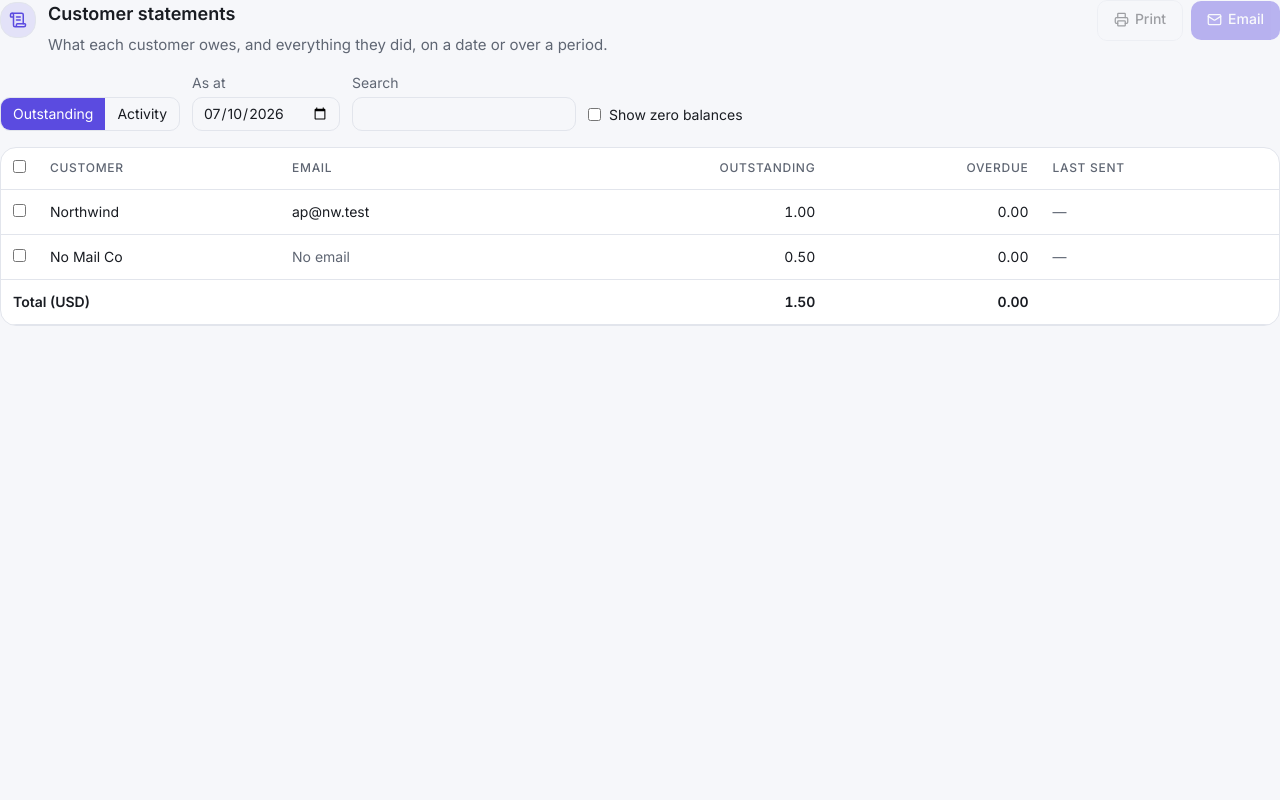
Test: Email statements from the list › sends the selected parties with the default template and reports who was skipped
Click the checkbox named "Select all": (20, 166) x1=13 y1=160 x2=26 y2=172
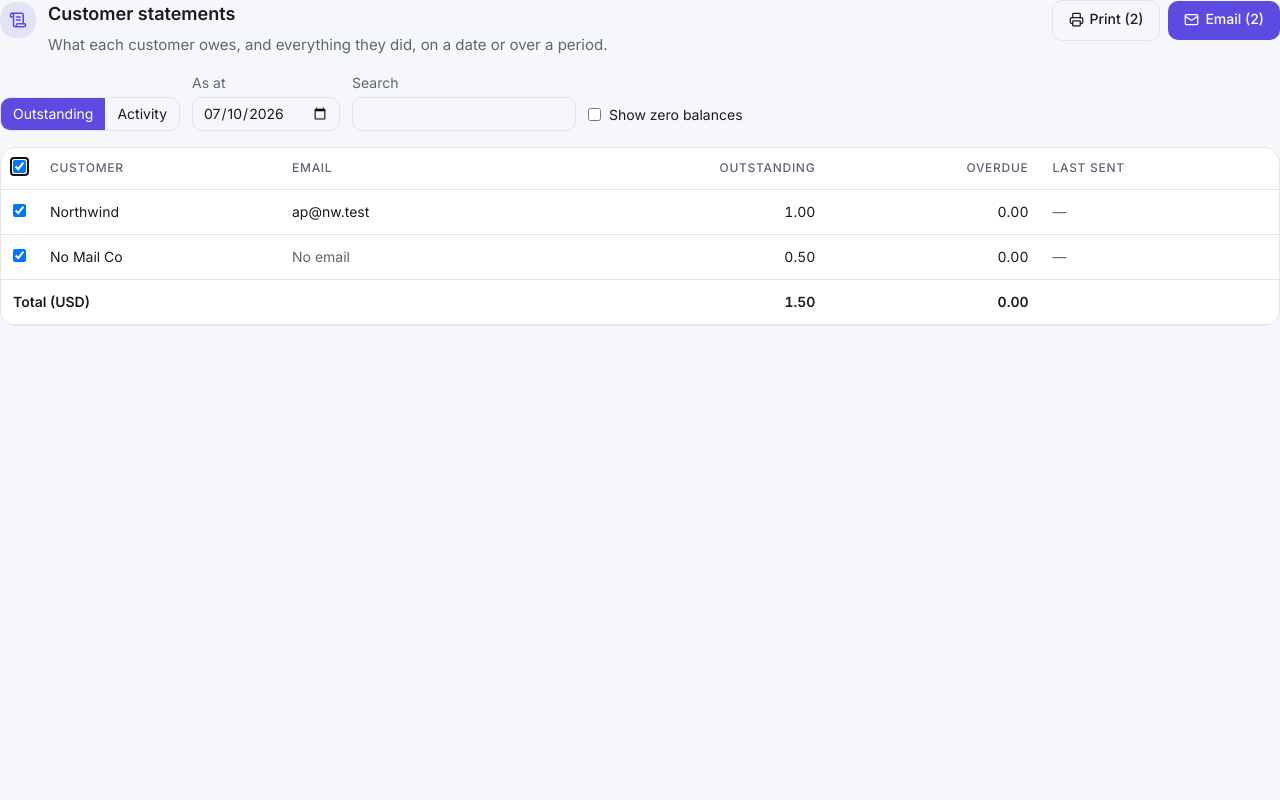
Click the button "Email (2)": (1224, 20) x1=1168 y1=1 x2=1279 y2=40
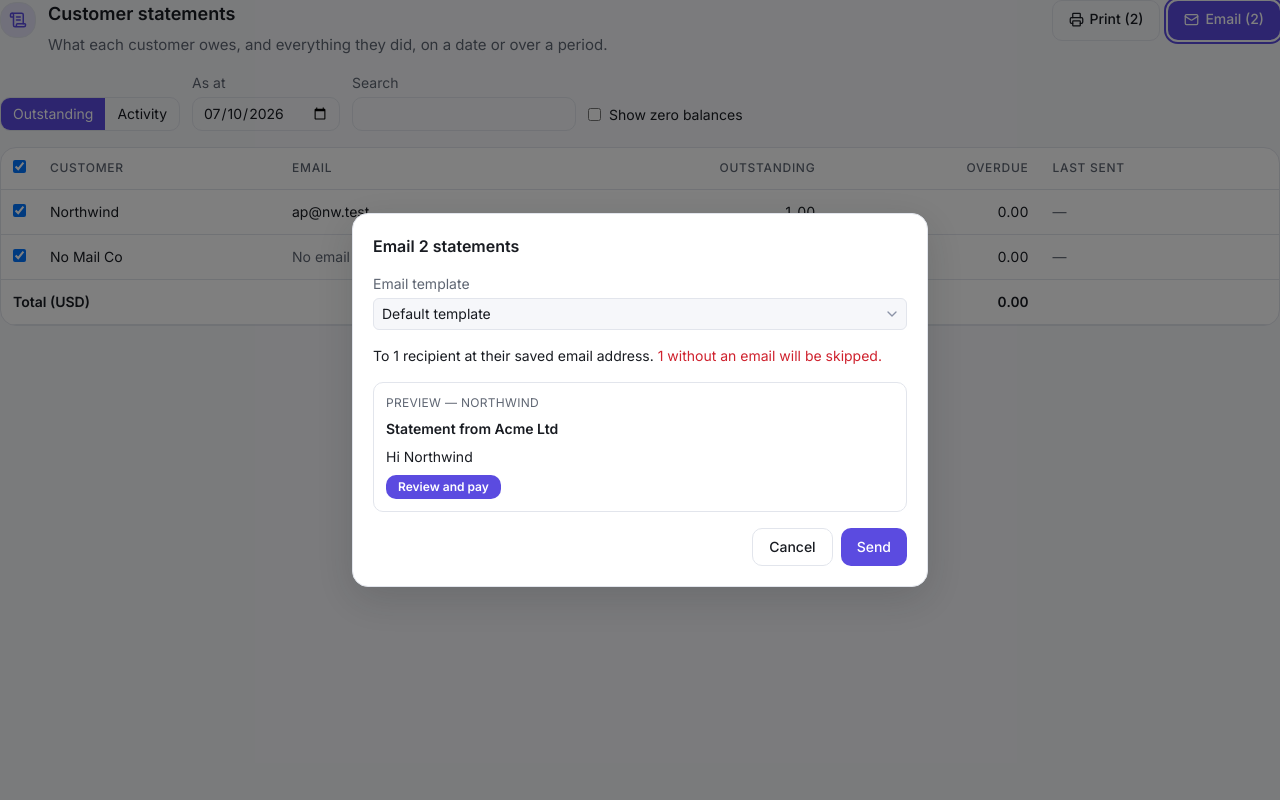
Result: the text "Statement from Acme Ltd" is shown at x1=386 y1=420 x2=558 y2=437
Result: the text "1 without an email will be skipped." is shown at x1=654 y1=347 x2=882 y2=364
Click the button "Send": (874, 547) x1=841 y1=528 x2=907 y2=566
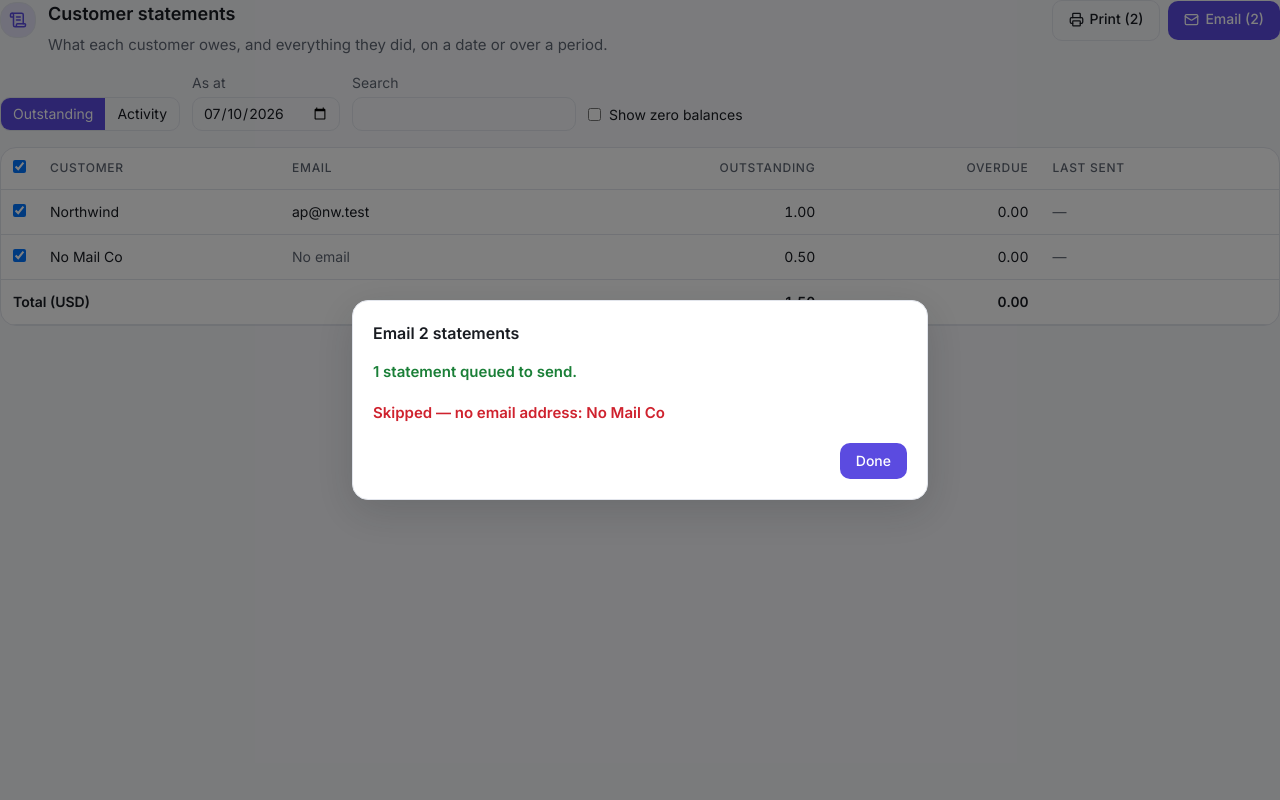
Result: the text "1 statement queued to send." is shown at x1=373 y1=362 x2=577 y2=381
Result: the text "Skipped — no email address: No Mail Co" is shown at x1=373 y1=403 x2=665 y2=422
